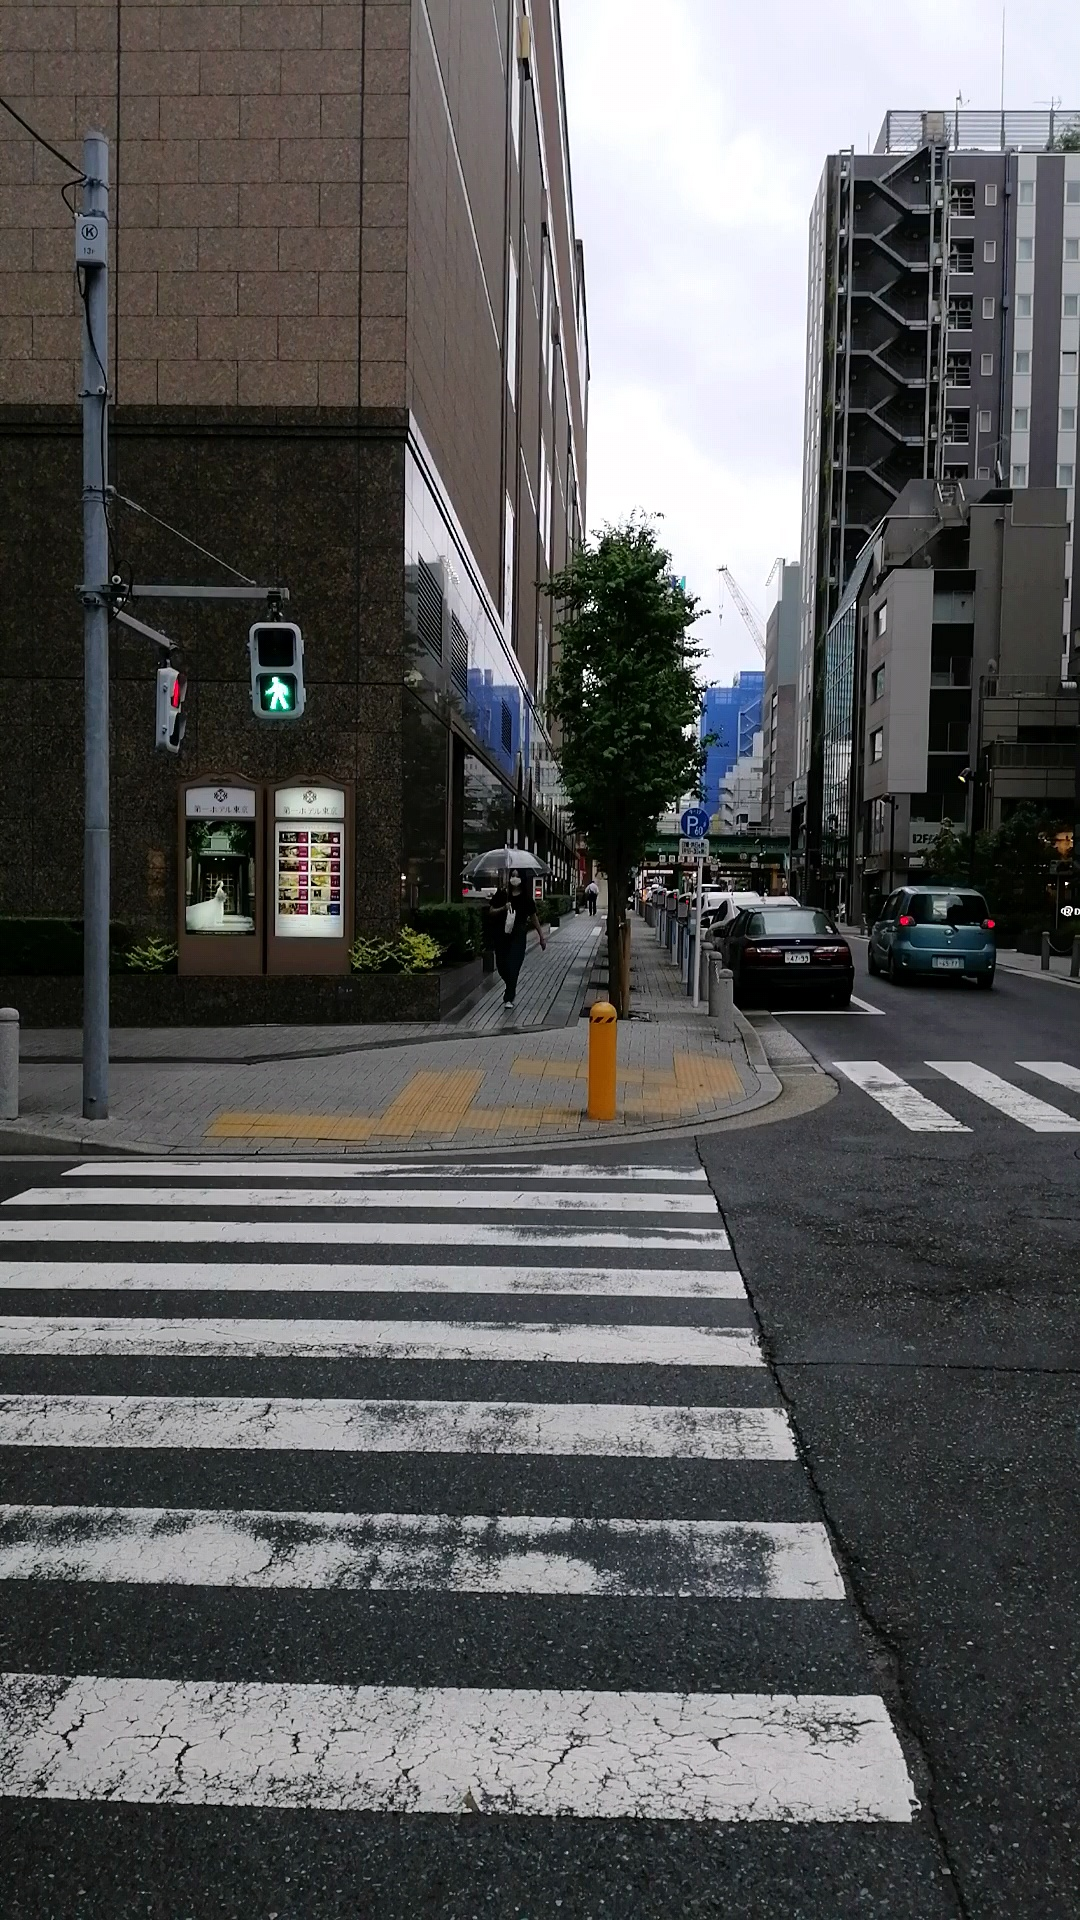green: (249, 616, 303, 715)
red: (156, 663, 185, 753)
